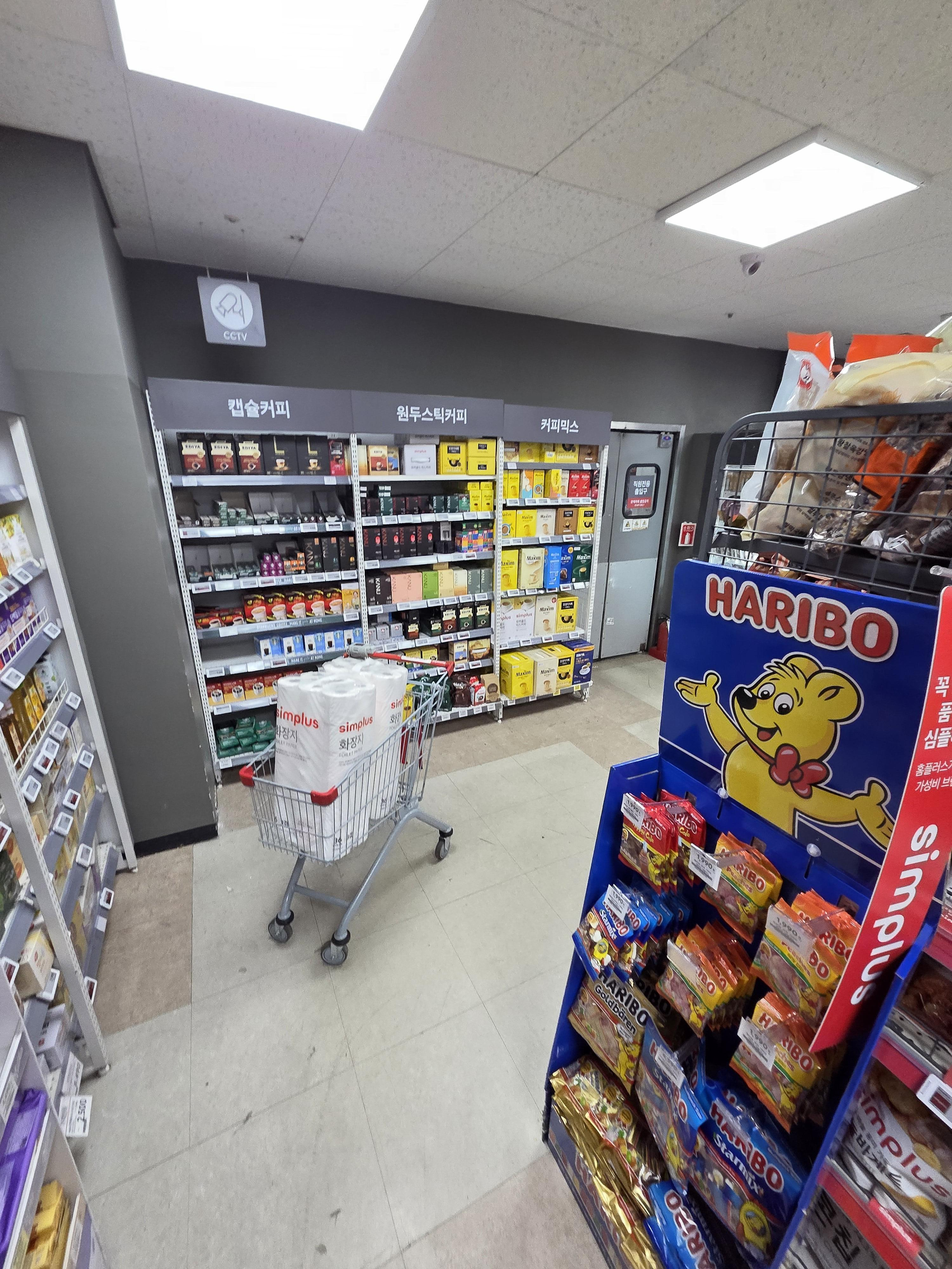fully_cart: (227, 634, 471, 977)
